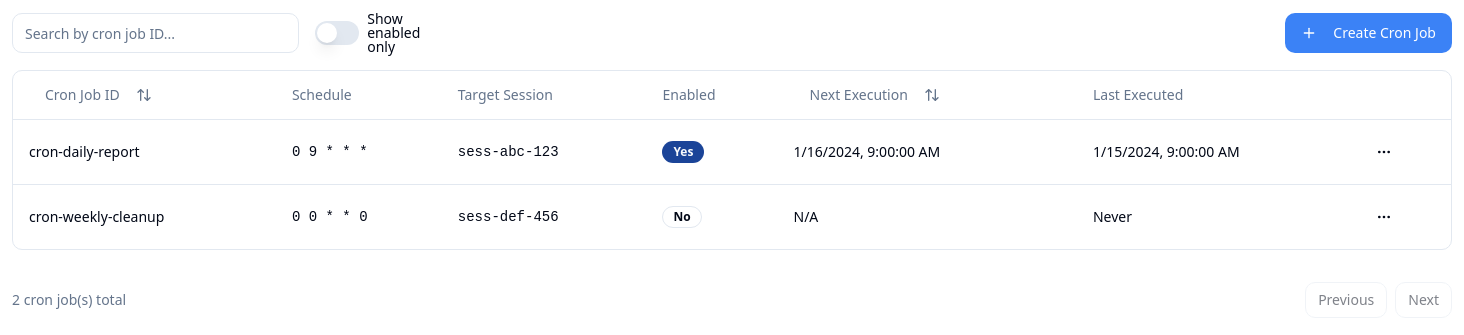
Test: CronJobsTable › search input filters cron jobs
Type "daily" into the field with placeholder "Search by cron job ID..." at point(156, 33), box [12,13,299,53]
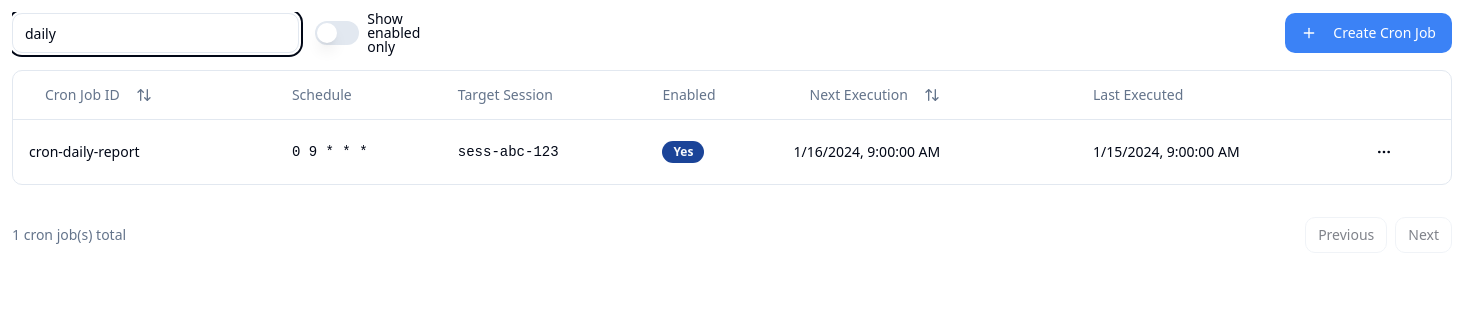
Check: the text "cron-daily-report" is shown, box [29,142,140,160]
Check: the text "cron-weekly-cleanup" is gone
